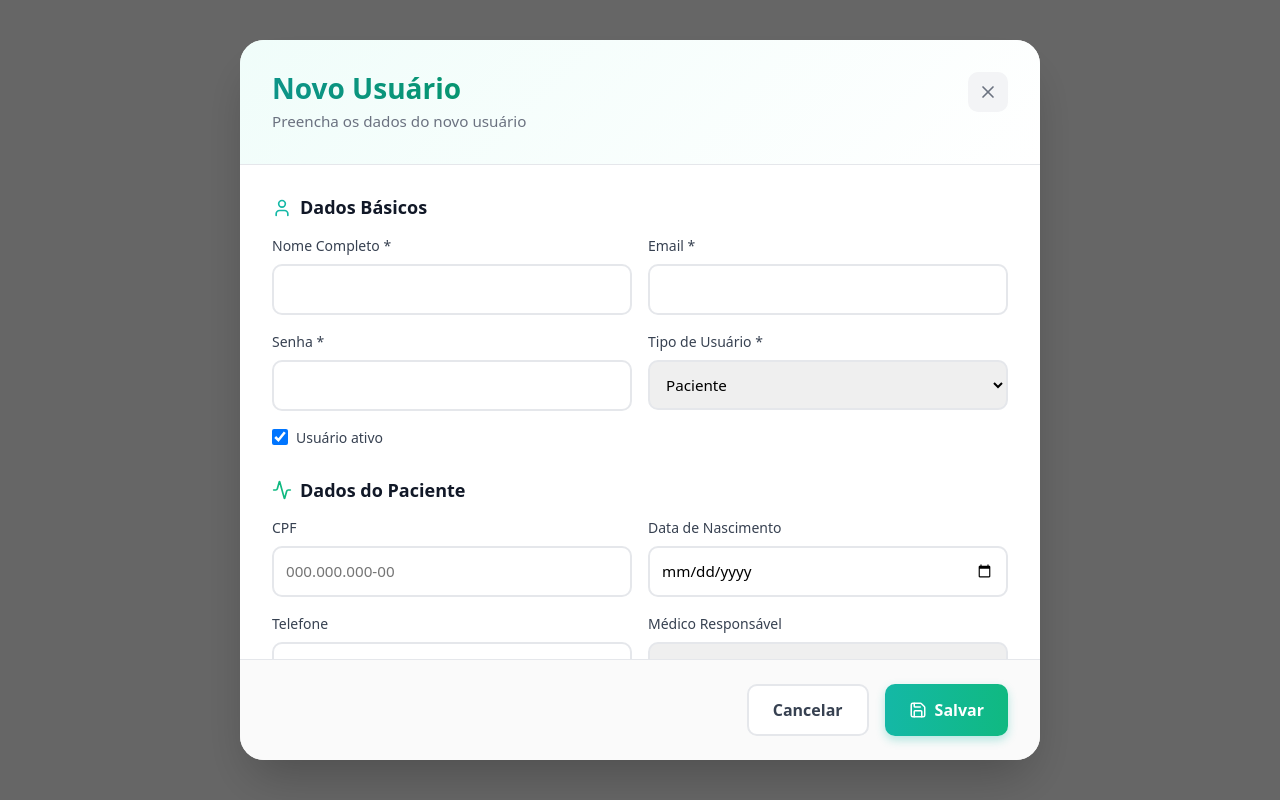
Test: UserModal - Renderização › deve exibir campos de médico ao selecionar tipo_usuario = medico
Select "Médico" in the dropdown labelled "Tipo de Usuário *": (828, 385) top-left (648, 360), bottom-right (1008, 410)
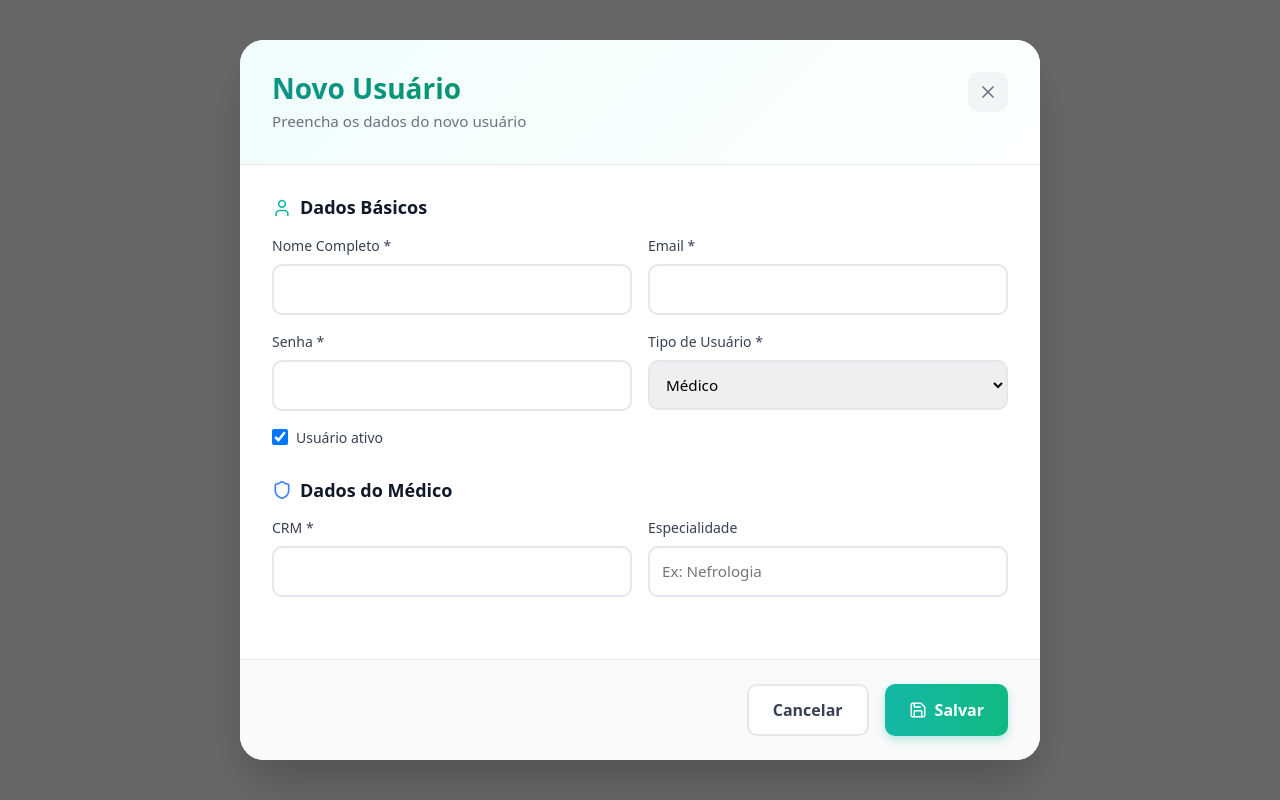
Now the heading "Dados do Médico" is shown, box top-left (272, 478), bottom-right (452, 502)
Now the field labelled "CRM *" is shown, box top-left (272, 546), bottom-right (632, 597)
